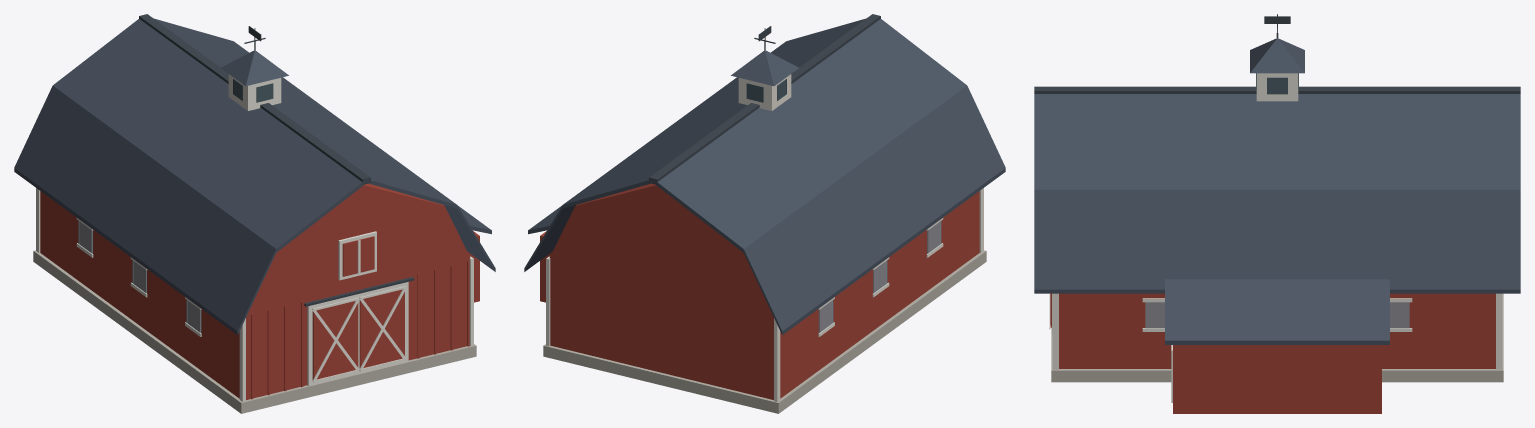
The model's file is RURAL_05.obj.
3 renders of one model, left to right at view 1: azimuth 30°, elevation 25°; view 2: azimuth 150°, elevation 25°; view 3: azimuth 270°, elevation 25°, orthographic. The views are drawn at different scales.
Parts seen in each view (by area): view 1: roof, walls, gable_walls, doors, base, roof_ridge, siding_front, door_trim, hayloft_door, cupola_roof, trim, windows (+3 smaller); view 2: roof, walls, gable_walls, base, roof_ridge, cupola_roof, trim, windows, cupola, cupola_louvres; view 3: roof, walls, shed_roof, shed, base, roof_ridge, cupola_roof, windows, trim, cupola.
Part boxes in pixels (box(x1,y1,x2,y2)): roof: box(14, 18, 495, 334); walls: box(40, 191, 469, 399); gable_walls: box(247, 183, 470, 314); doors: box(307, 282, 408, 386); base: box(33, 250, 476, 413); roof_ridge: box(139, 14, 370, 184); siding_front: box(251, 261, 469, 399); door_trim: box(312, 286, 406, 382); hayloft_door: box(338, 231, 376, 280); cupola_roof: box(221, 50, 288, 85); trim: box(36, 188, 473, 401); windows: box(78, 221, 201, 332); roof: box(524, 18, 1005, 334); walls: box(550, 191, 979, 399); gable_walls: box(549, 183, 772, 314); base: box(543, 250, 986, 413); roof_ridge: box(649, 14, 880, 184); cupola_roof: box(731, 50, 798, 85); trim: box(546, 188, 983, 401); windows: box(818, 221, 941, 332); cupola: box(738, 74, 791, 110); cupola_louvres: box(746, 79, 786, 102); roof: box(1034, 94, 1520, 293); walls: box(1059, 293, 1495, 368); shed_roof: box(1165, 279, 1389, 344); shed: box(1173, 345, 1381, 413); base: box(1051, 293, 1503, 382); roof_ridge: box(1034, 86, 1520, 93); cupola_roof: box(1250, 38, 1304, 73); windows: box(1145, 302, 1409, 328); trim: box(1052, 293, 1502, 369); cupola: box(1256, 73, 1298, 101).
Bounding box in the file's own units: 15.1 × 12.91 × 18.6.
